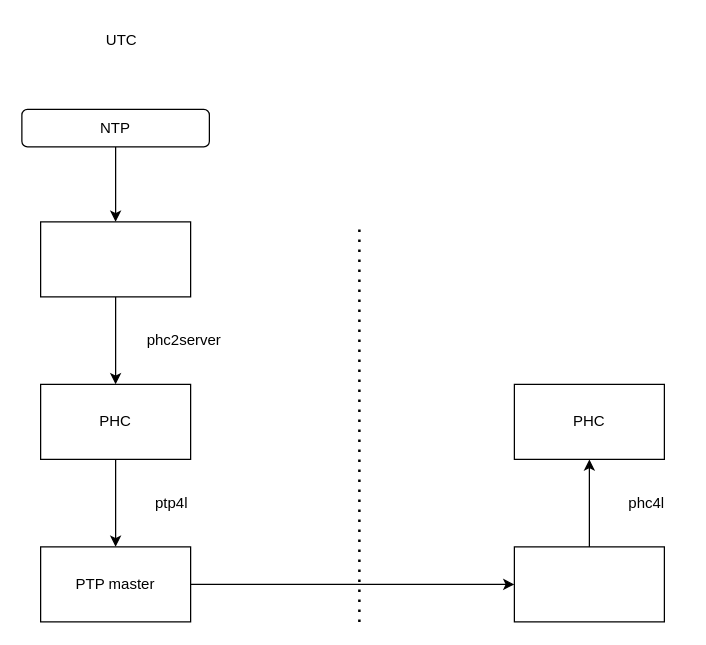
Image size: 706x645. Some labels were removed from this diagram. Here are the shapes that lost their labels. From the top down, the box of each, then its label:
(39, 221, 191, 297): System Clock
(513, 546, 664, 622): PTP slave
